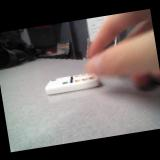domino: (45, 72, 99, 94)
